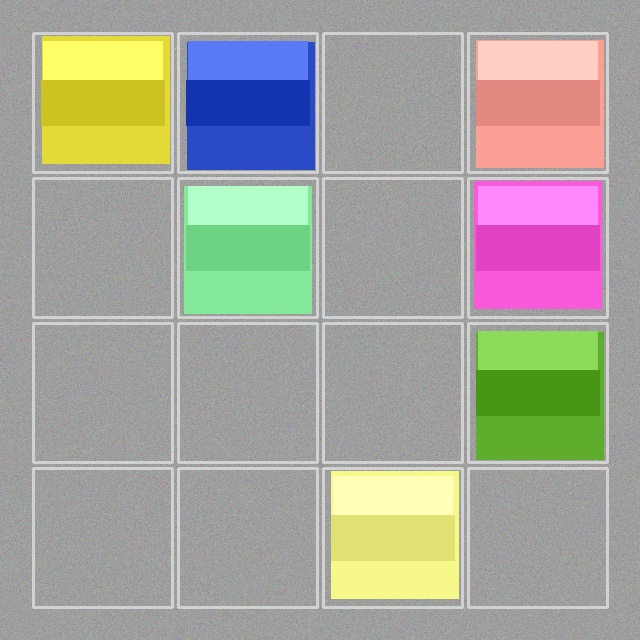space-empty: (325, 35, 460, 170), (35, 180, 170, 315), (325, 180, 460, 315), (35, 325, 170, 460), (180, 325, 315, 460), (325, 325, 460, 460), (35, 470, 170, 605), (180, 470, 315, 605), (470, 470, 605, 605)
space-occupied: (35, 35, 170, 170), (180, 35, 315, 170), (470, 35, 605, 170), (180, 180, 315, 315), (470, 180, 605, 315), (470, 325, 605, 460), (325, 470, 460, 605)
